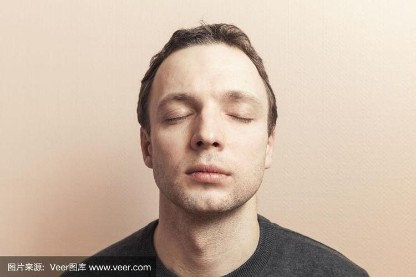闭眼: (222, 105, 259, 129), (156, 105, 194, 126)
